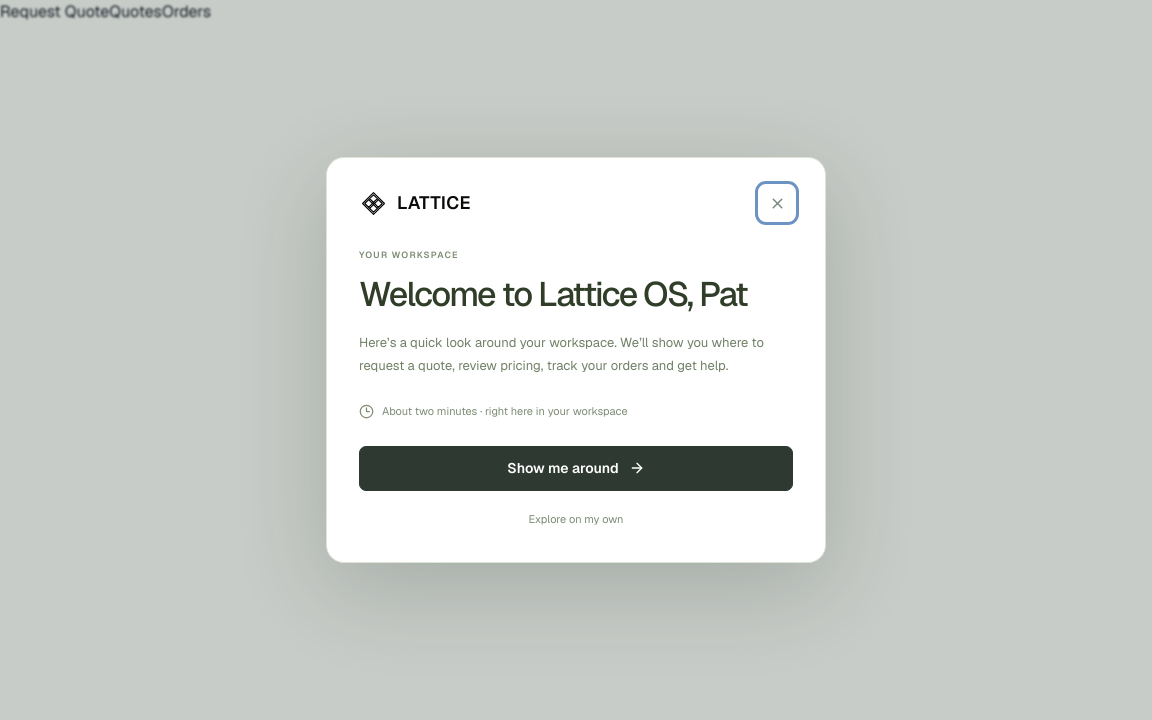
Test case: customer tour uses local steps and only records completion › records completion once on exit, rather than on each step
The image size is (1152, 720).
Expected: the dialog "Welcome to Lattice OS, Pat" is shown, [326,157,826,563]
Click the button named "Skip tour": (777, 203) [761,187,793,219]
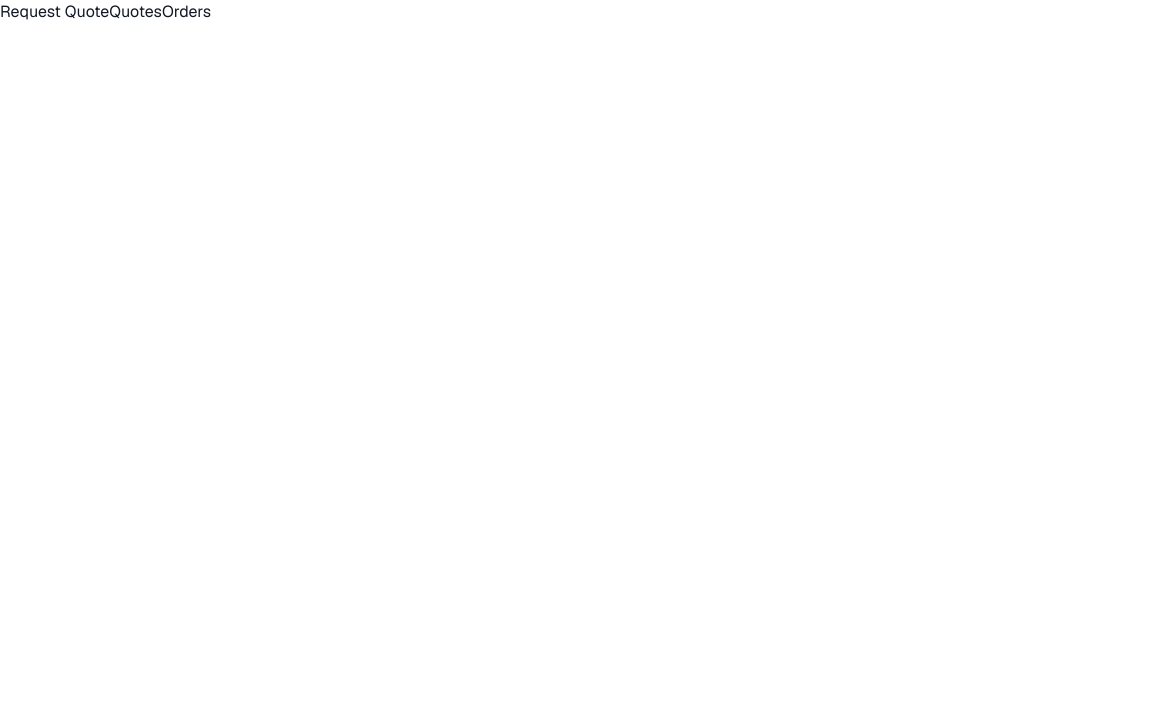
Expected: the dialog is gone
